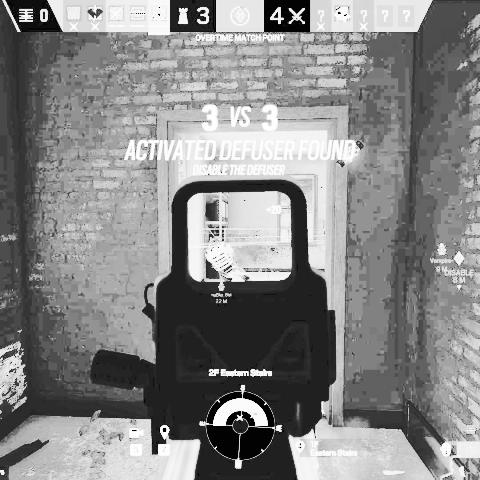Character: (203, 236, 251, 283)
Friend_label: (444, 423, 480, 446)
Head: (210, 236, 220, 244)
